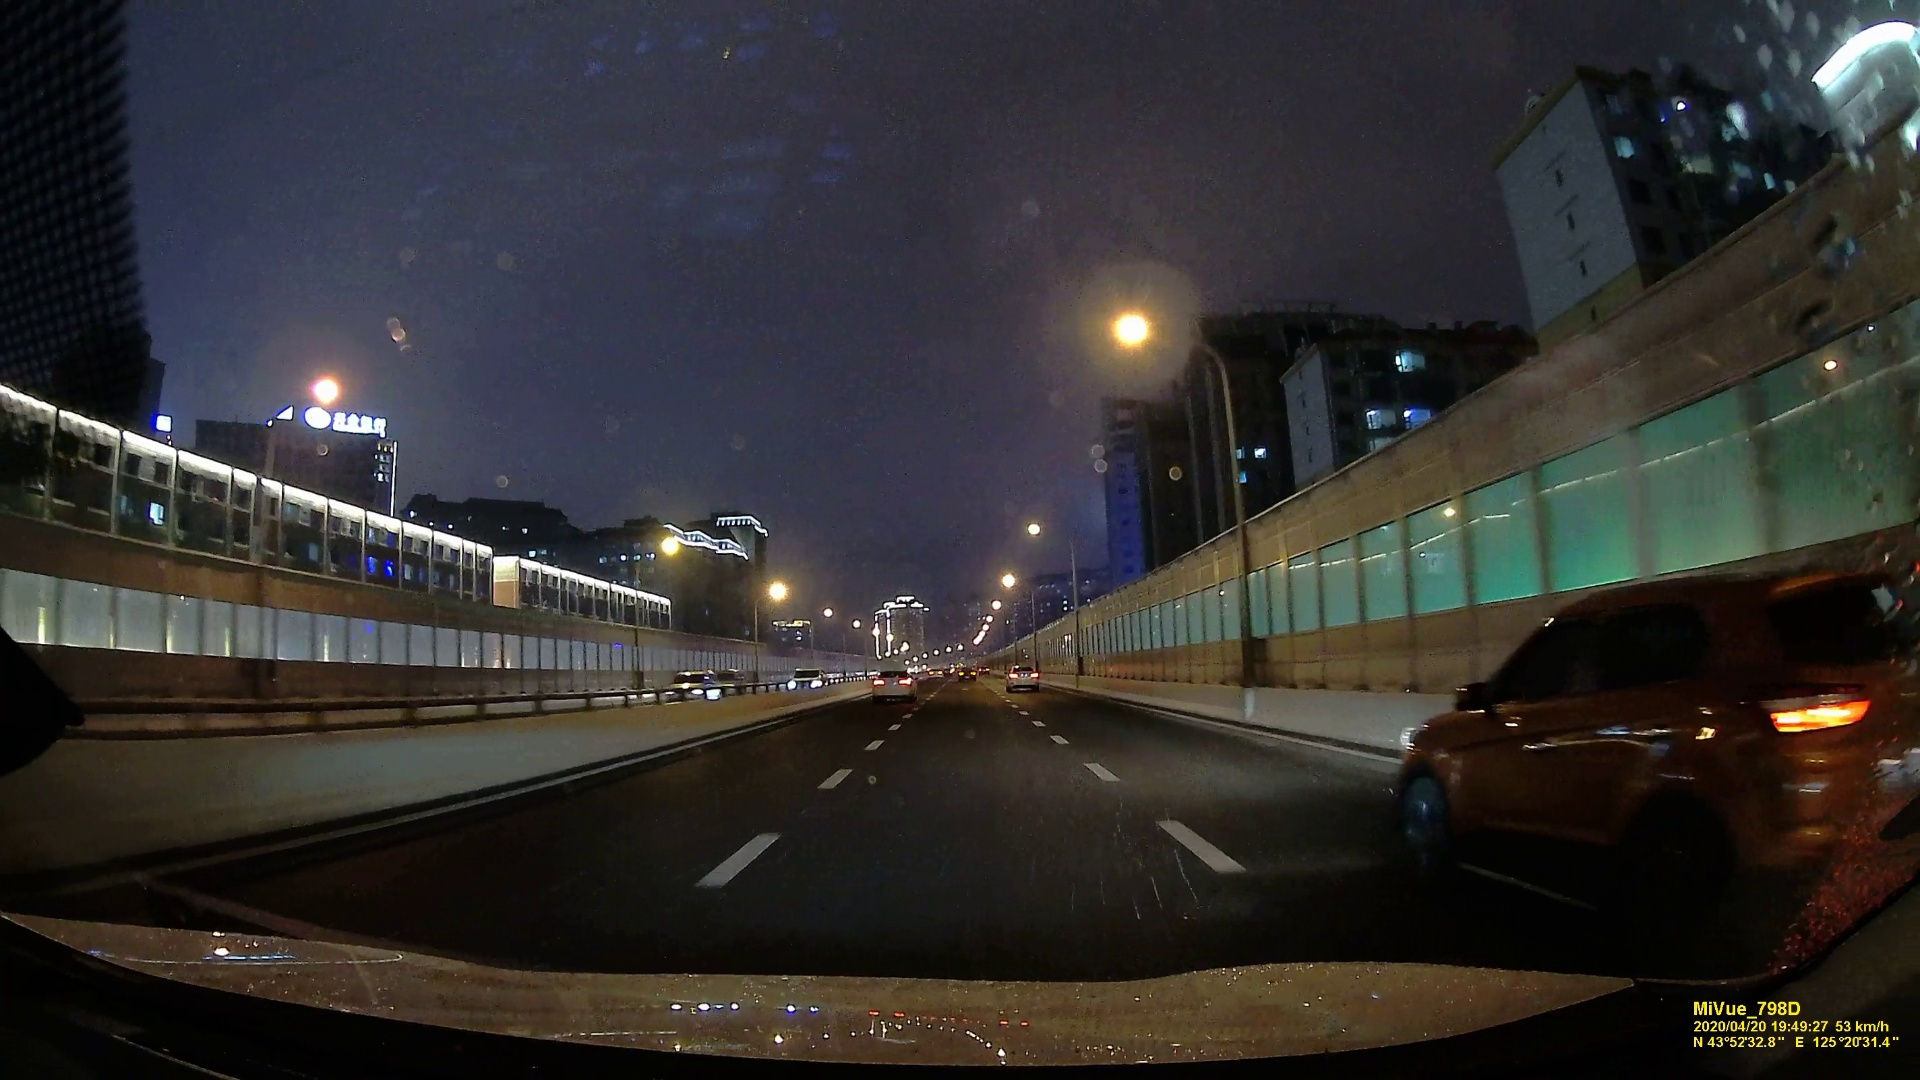vehicle: (1402, 546, 1912, 916), (870, 669, 915, 700), (1005, 665, 1040, 691), (786, 669, 825, 692), (957, 666, 976, 682)
